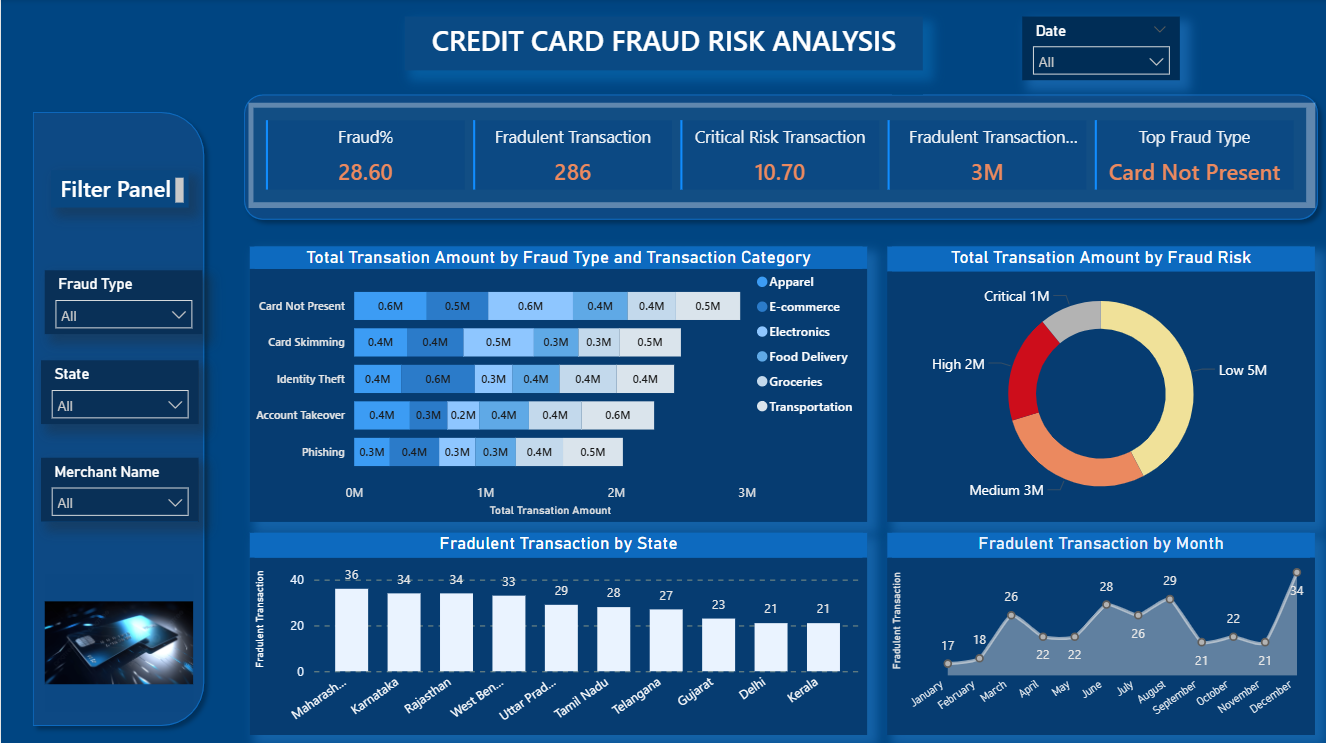

The dashboard page shown, as its layout file describes it:
{"tool":"powerbi","page":{"name":"Page 1","canvas":[1280,720],"ordinal":0},"visuals":[{"type":"textbox","box":[390.2,16.9,500.1,51.9],"z":0},{"type":"shape","box":[21.7,100.1,183.4,610.5],"z":1000},{"type":"textbox","box":[48.3,165.3,132.7,36.2],"z":2000},{"type":"shape","box":[225.6,83.2,1054.4,138.7],"z":3000},{"type":"barChart","fields":{"Category":["Credit Card Fraud Risk Analysis.Fraud Type"],"Series":["Credit Card Fraud Risk Analysis.Transaction Category"],"Y":["Credit Card Fraud Risk Analysis.Total Transation Amount"]},"box":[239.7,238.5,596.2,265.4],"z":4000},{"type":"donutChart","fields":{"Category":["Credit Card Fraud Risk Analysis.Fraud Risk"],"Y":["Credit Card Fraud Risk Analysis.Total Transation Amount"]},"box":[855.1,238.5,412.8,265.4],"z":5000},{"type":"lineStackedColumnComboChart","fields":{"Y":["Credit Card Fraud Risk Analysis.Fradulent Transaction"],"Category":["Credit Card Fraud Risk Analysis.State"]},"box":[239.7,515.4,596.2,194.9],"z":6000},{"type":"lineChart","fields":{"Category":["Credit Card Fraud Risk Analysis.Transaction Date.Variation.Date Hierarchy.Month"],"Y":["Credit Card Fraud Risk Analysis.Fradulent Transaction"]},"box":[855.1,515.4,412.8,194.9],"z":7000},{"type":"cardVisual","fields":{"Data":["Credit Card Fraud Risk Analysis.Fraud%","Credit Card Fraud Risk Analysis.Fradulent Transaction","Credit Card Fraud Risk Analysis.Critical Risk Transaction","Credit Card Fraud Risk Analysis.Fradulent Transaction Amount","Credit Card Fraud Risk Analysis.Top Fraud Type"]},"box":[239.2,100.3,1029.2,101.5],"z":8000},{"type":"slicer","fields":{"Values":["Credit Card Fraud Risk Analysis.Fraud Type"]},"box":[42.2,261.8,152,61.5],"z":9000},{"type":"slicer","fields":{"Values":["Credit Card Fraud Risk Analysis.State"]},"box":[38.6,348.7,152,61.5],"z":10000},{"type":"slicer","fields":{"Values":["Credit Card Fraud Risk Analysis.Merchant Name"]},"box":[38.6,442.8,152,61.5],"z":11000},{"type":"slicer","fields":{"Values":["Credit Card Fraud Risk Analysis.Transaction Date"]},"box":[985.7,16.9,152,61.5],"z":12000},{"type":"image","box":[42.2,555,143.6,132.7],"z":12001}]}

Visuals, with their boxes in screenshot pixels (x1, y1, x2, y2), scaled from the page's 1280x720 canvas onto the 1326x743 screenshot:
textbox: Rect(404, 17, 922, 71)
shape: Rect(22, 103, 212, 733)
textbox: Rect(50, 171, 188, 208)
shape: Rect(234, 86, 1325, 229)
barChart - Credit Card Fraud Risk Analysis.Fraud Type x Credit Card Fraud Risk Analysis.Transaction Category: Rect(248, 246, 866, 520)
donutChart - Credit Card Fraud Risk Analysis.Fraud Risk x Credit Card Fraud Risk Analysis.Total Transation Amount: Rect(886, 246, 1313, 520)
lineStackedColumnComboChart - Credit Card Fraud Risk Analysis.Fradulent Transaction x Credit Card Fraud Risk Analysis.State: Rect(248, 532, 866, 733)
lineChart - Credit Card Fraud Risk Analysis.Transaction Date.Variation.Date Hierarchy.Month x Credit Card Fraud Risk Analysis.Fradulent Transaction: Rect(886, 532, 1313, 733)
cardVisual - Credit Card Fraud Risk Analysis.Fraud% x Credit Card Fraud Risk Analysis.Fradulent Transaction: Rect(248, 104, 1314, 208)
slicer - Credit Card Fraud Risk Analysis.Fraud Type: Rect(44, 270, 201, 334)
slicer - Credit Card Fraud Risk Analysis.State: Rect(40, 360, 197, 423)
slicer - Credit Card Fraud Risk Analysis.Merchant Name: Rect(40, 457, 197, 520)
slicer - Credit Card Fraud Risk Analysis.Transaction Date: Rect(1021, 17, 1179, 81)
image: Rect(44, 573, 192, 710)
